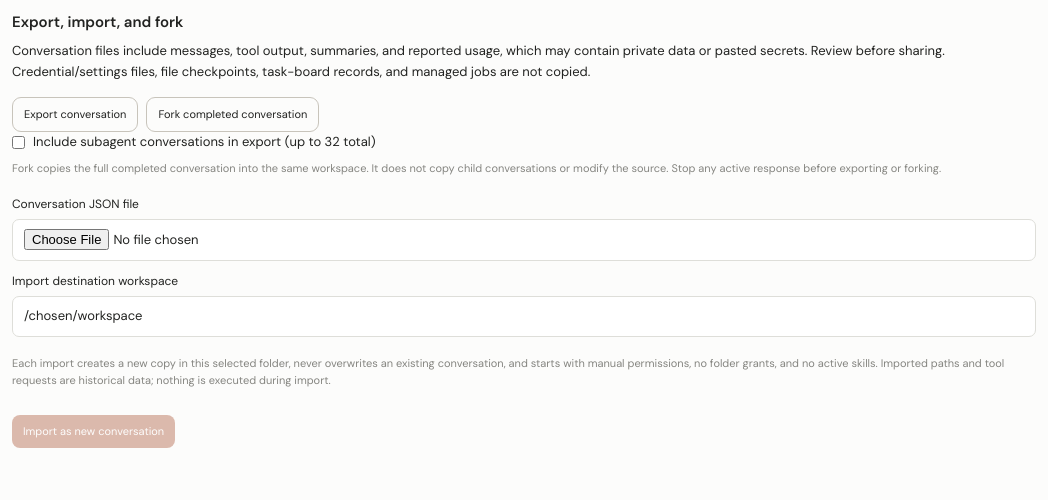
Test: exports with the selected child scope and downloads the returned JSON without extra requests
What coordinates should you click on to do the following:
click the checkbox
I would click on:
 (18, 143)
Its box is [12,136,25,149].
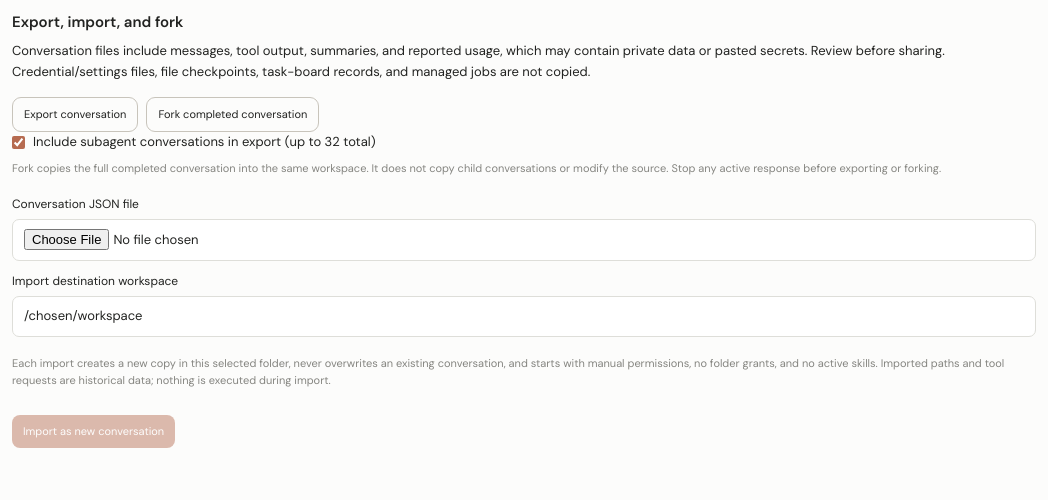
What coordinates should you click on to do the following:
click the button "Export conversation"
I would click on:
 (75, 114)
Its box is [12,97,138,132].
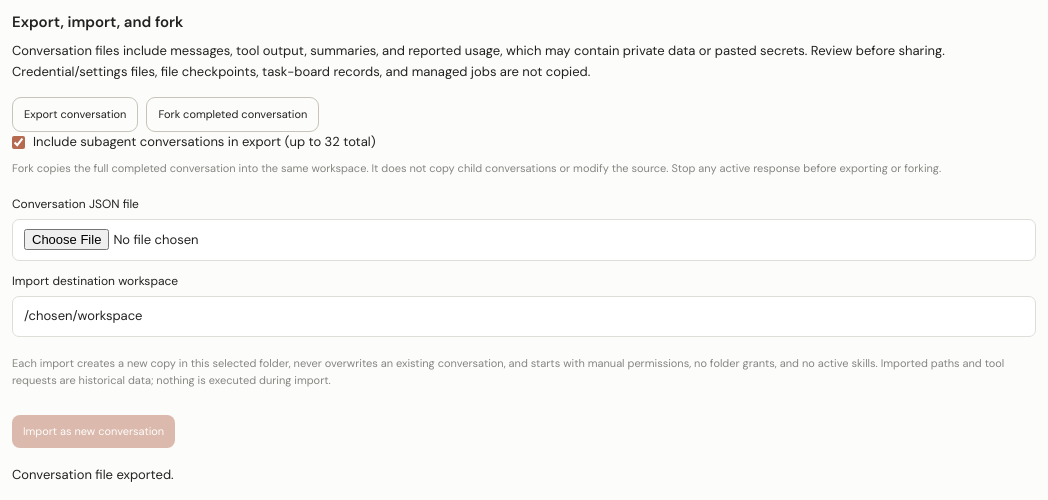
Expected: the message reads "Conversation file exported.", [12,466,174,483]
